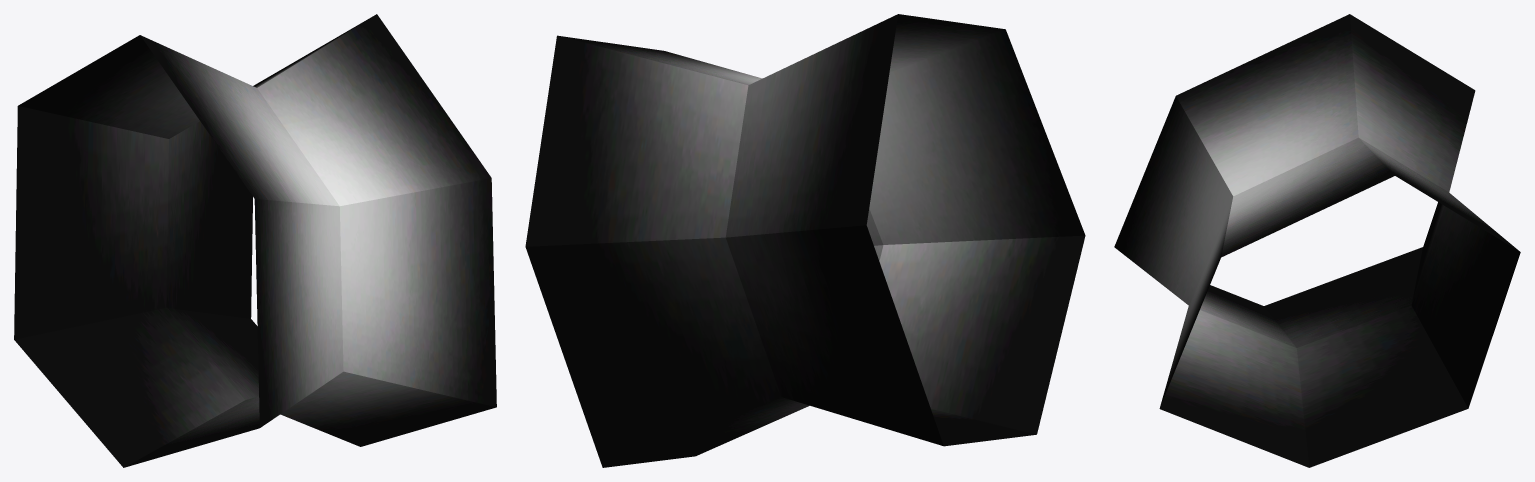
File: vfx_kurp_0551.dae
3 renders of one model, left to right at view 1: azimuth 30°, elevation 25°; view 2: azimuth 150°, elevation 25°; view 3: azimuth 270°, elevation 25°, orthographic. The views are drawn at different scales.
Parts seen in each view (by area): view 1: vfx_kurp_0551; view 2: vfx_kurp_0551; view 3: vfx_kurp_0551.
Boxes of the visible parts, x1,y1,x2,y2 form: vfx_kurp_0551: (14, 14, 496, 467); vfx_kurp_0551: (525, 14, 1085, 467); vfx_kurp_0551: (1114, 14, 1520, 467).
Bounding box in the file's own units: 4.13 × 4.82 × 4.88.
Materials: 1 (1 with a texture image).
